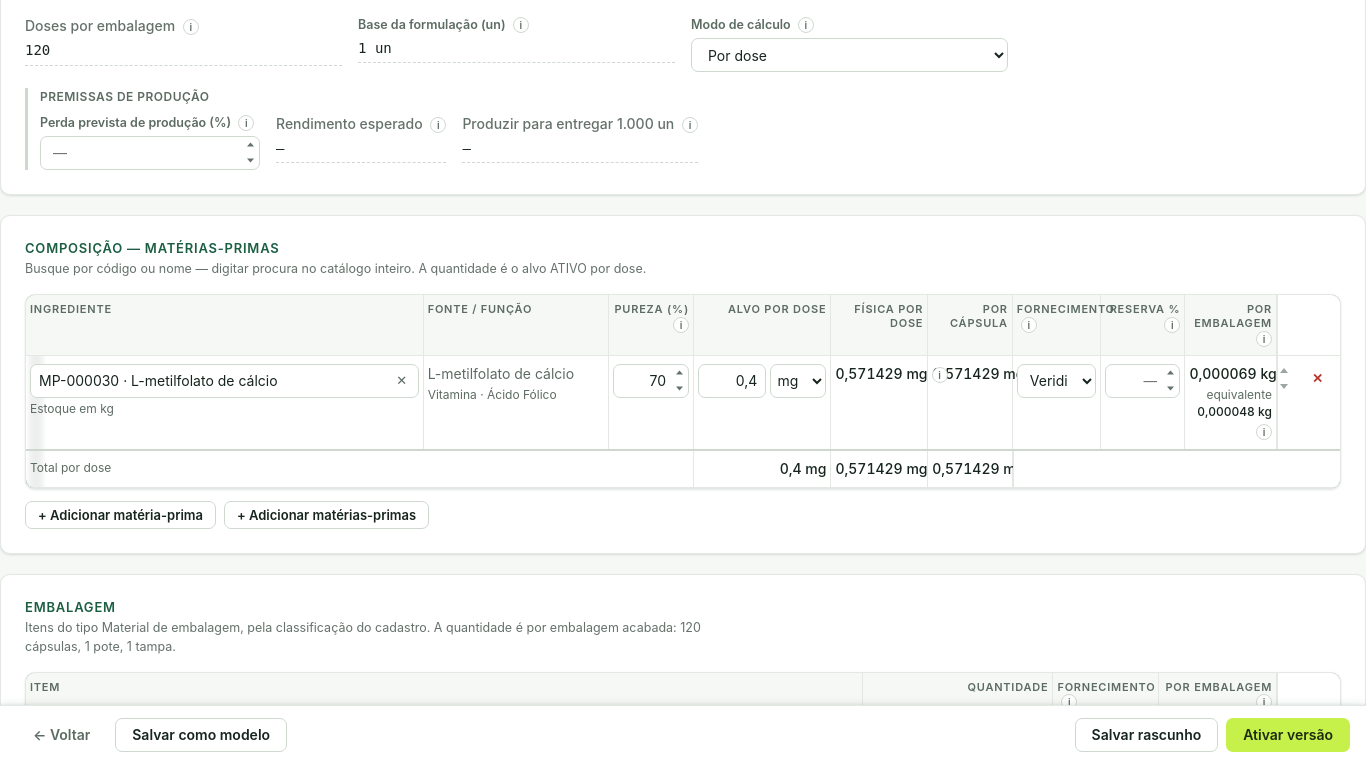
it: Bancada — cápsula responde ao vivo › pureza editada na coluna muda a quantidade física na hora
(page scrolled)
Replace the text in the field named "Pureza de MP-000030" with "100": (651, 380) [614, 364, 689, 398]
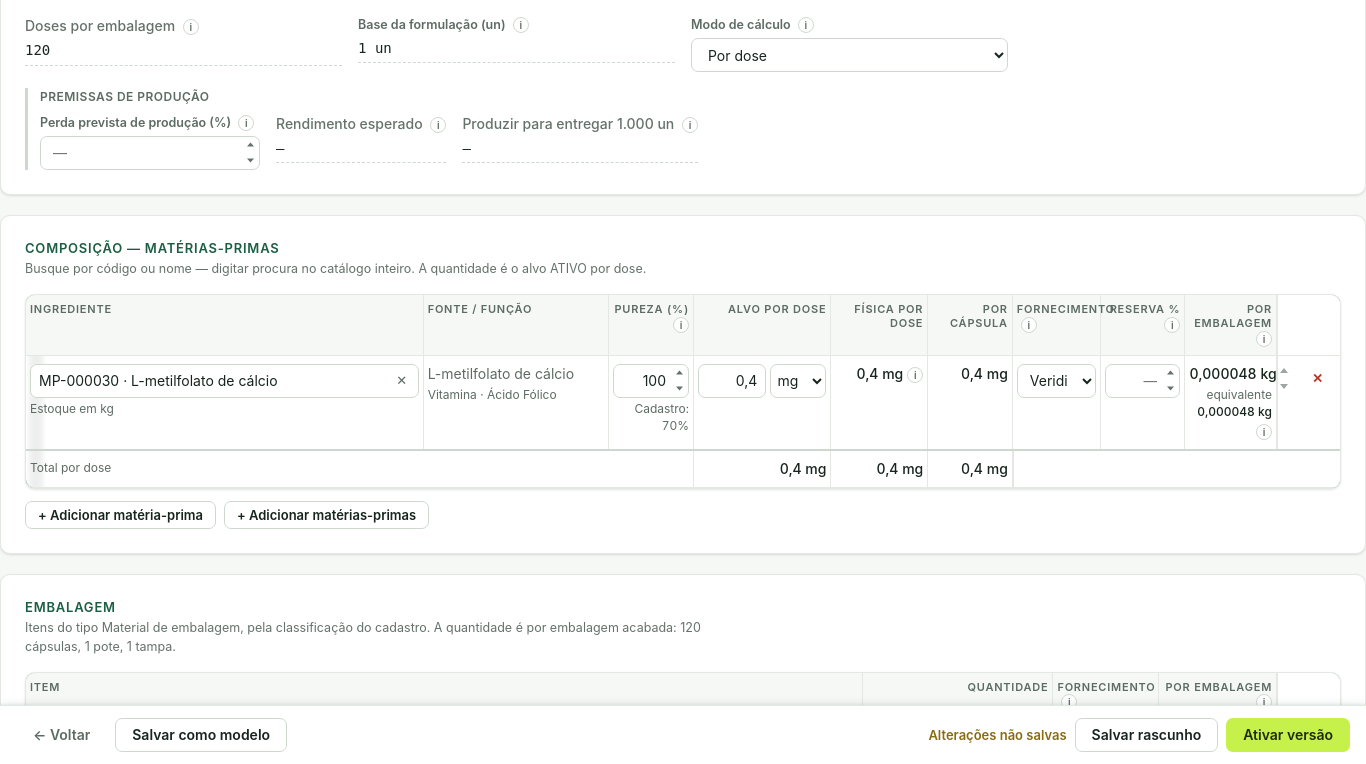
Expected: the row named "Quantidade de MP-000030" is shown, [26, 355, 1340, 450]
Now the row named "Quantidade de MP-000030" shows "0,4 mg", box [856, 364, 903, 382]
Now the text labelled "Quantidade de MP-000030" no longer shows "0,571429"
